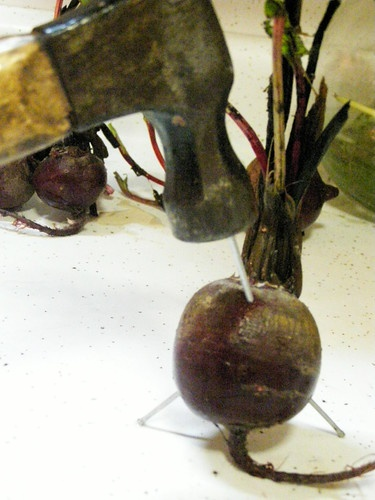hammer: (0, 1, 263, 247)
